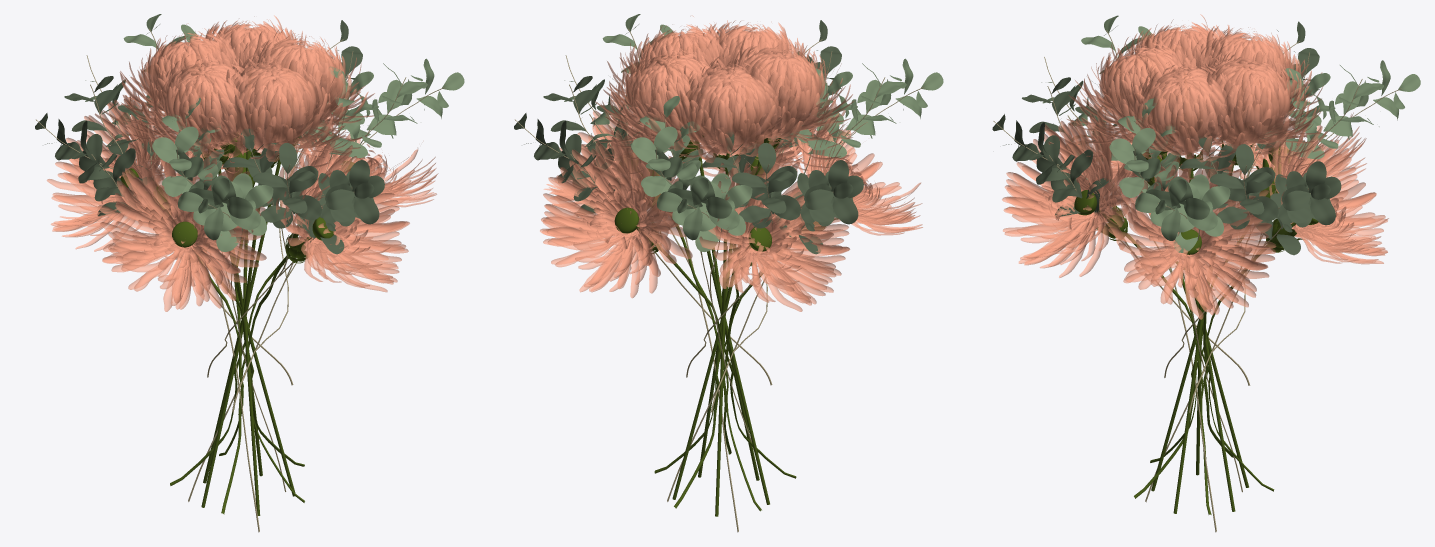
Rendered from bouquet_1736278552792.glb.
3 views of the same model, side by side, from view 1: azimuth 30°, elevation 25°; view 2: azimuth 150°, elevation 25°; view 3: azimuth 270°, elevation 25° (orthographic).
Bounding box in the file's own units: 2.17 × 2.57 × 2.22.
